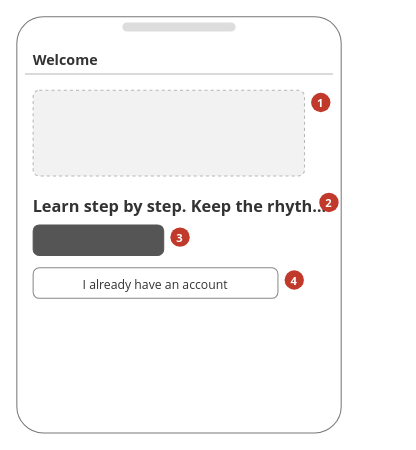
Image size: 416x450. Some labels were removed from this diagram. Here are the shapes that lost their labels. From the top down, the centre of each, then its label:
At point 168,132: "IELTSPath logo and mascot".
At point 98,240: "Get started".
